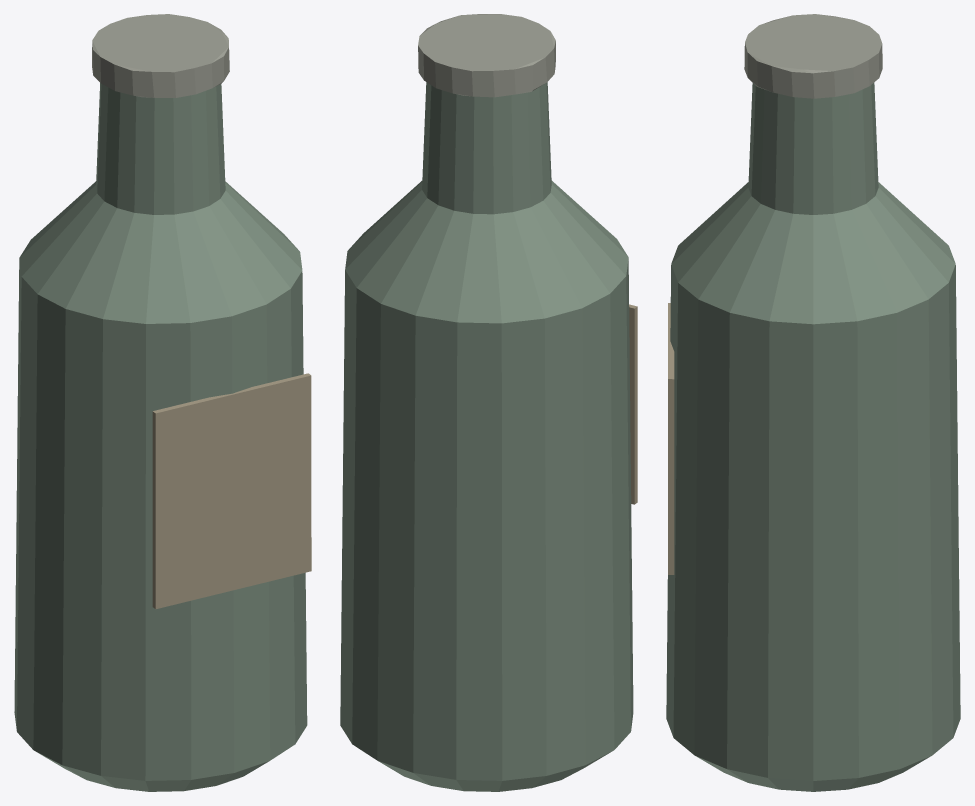
The model's file is bottle_low.glb.
3 views of the same model, side by side, from view 1: azimuth 30°, elevation 25°; view 2: azimuth 150°, elevation 25°; view 3: azimuth 270°, elevation 25° (orthographic).
Visible parts, largest first — view 1: bottle.001; view 2: bottle.001; view 3: bottle.001.
Boxes of the visible parts, x1,y1,x2,y2 form: bottle.001: (14,14,311,791); bottle.001: (340,14,637,791); bottle.001: (666,14,960,791).
Size of the model in its own units: 0.122 by 0.3215 by 0.122.
